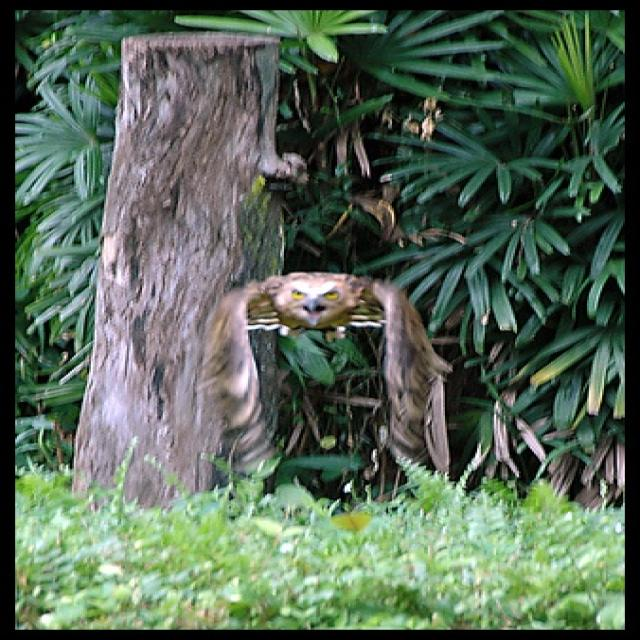bird: (210, 271, 441, 467)
